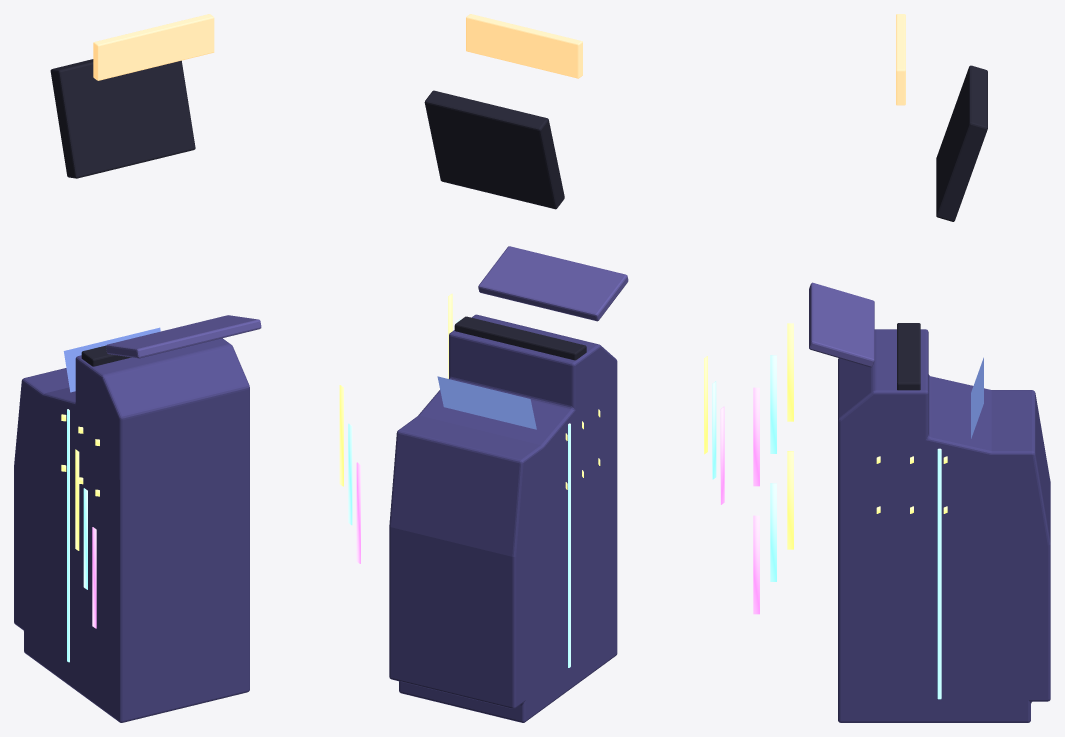
File: arcade_cabinet.glb
3 renders of one model, left to right at view 1: azimuth 30°, elevation 25°; view 2: azimuth 150°, elevation 25°; view 3: azimuth 270°, elevation 25°, orthographic. The views are drawn at different scales.
Visible parts, largest first — view 1: CabinetBody, Bezel, Marquee, ControlPanel, Screen, TMold-1; view 2: CabinetBody, Bezel, ControlPanel, Marquee, Screen, MarqueeFrame, TMold-1; view 3: CabinetBody, Bezel, ControlPanel, MarqueeFrame, TMold1, Marquee, SideStripe1_0, SideStripe-1_0, SideStripe1_1, SideStripe1_2, SideStripe-1_1, SideStripe-1_2 (+1 smaller).
Part boxes in pixels (x1,y1,x2,y2): CabinetBody: (14, 338, 249, 722); Bezel: (50, 59, 195, 178); Marquee: (93, 14, 214, 80); ControlPanel: (106, 315, 261, 358); Screen: (63, 327, 160, 392); TMold-1: (67, 409, 69, 662); CabinetBody: (389, 314, 617, 722); Bezel: (424, 90, 564, 209); ControlPanel: (478, 246, 628, 321); Marquee: (466, 14, 582, 78); Screen: (437, 376, 536, 429); MarqueeFrame: (454, 316, 586, 360); TMold-1: (568, 423, 570, 667); CabinetBody: (838, 329, 1050, 722); Bezel: (936, 65, 987, 221); ControlPanel: (809, 282, 874, 367); MarqueeFrame: (897, 323, 920, 390); TMold1: (937, 448, 941, 699); Marquee: (896, 14, 905, 105); SideStripe1_0: (753, 515, 759, 614); SideStripe-1_0: (753, 387, 759, 486); SideStripe1_1: (770, 483, 776, 581); SideStripe1_2: (787, 451, 793, 549); SideStripe-1_1: (770, 355, 776, 453); SideStripe-1_2: (787, 323, 793, 421).
Size of the model in its own units: 1.54 by 3.64 by 1.51.
